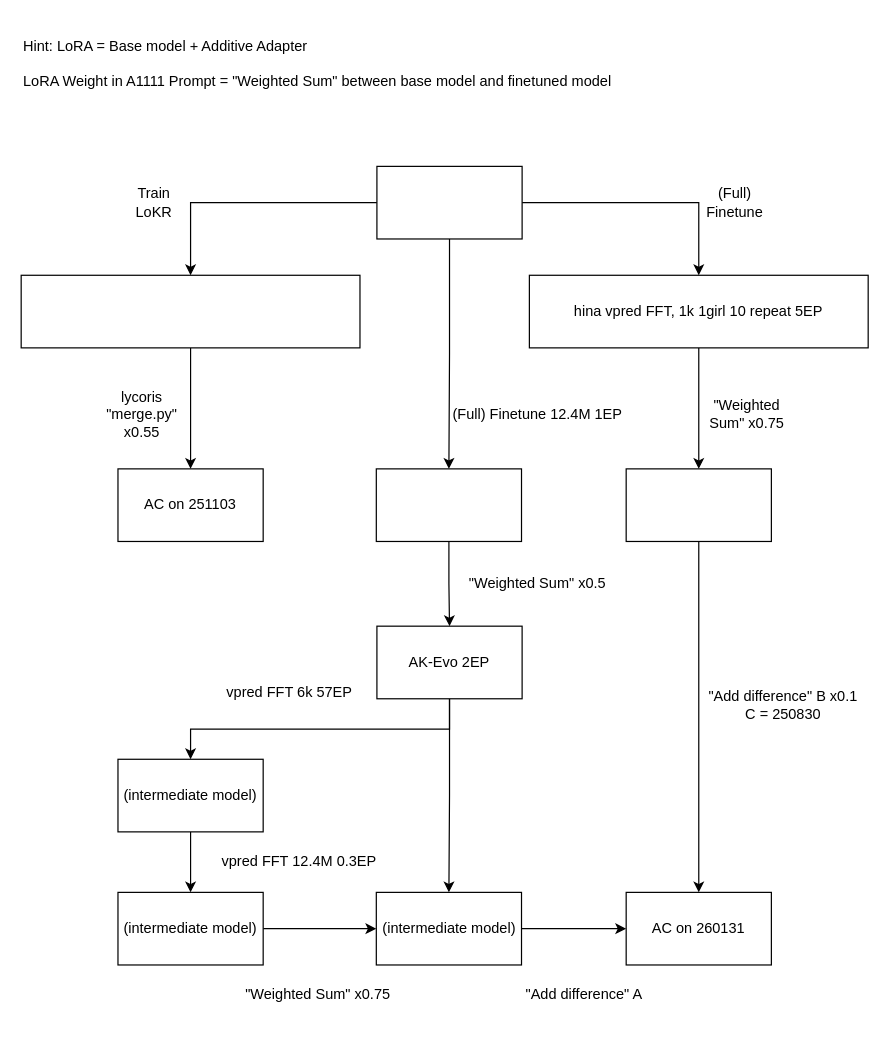
Image size: 889x1045. Some labels were removed from this diagram. Each missing label, with the centre of its shape:
AC-hinaFT on 251117: [698,504]
AK-NIL1.5 v1.2 on 250830: [449,202]
AstolfoXL 2EP: [448,504]
hinaAstolfoXL_NIL15_v12_vpred_Lora_v41: [190,311]
